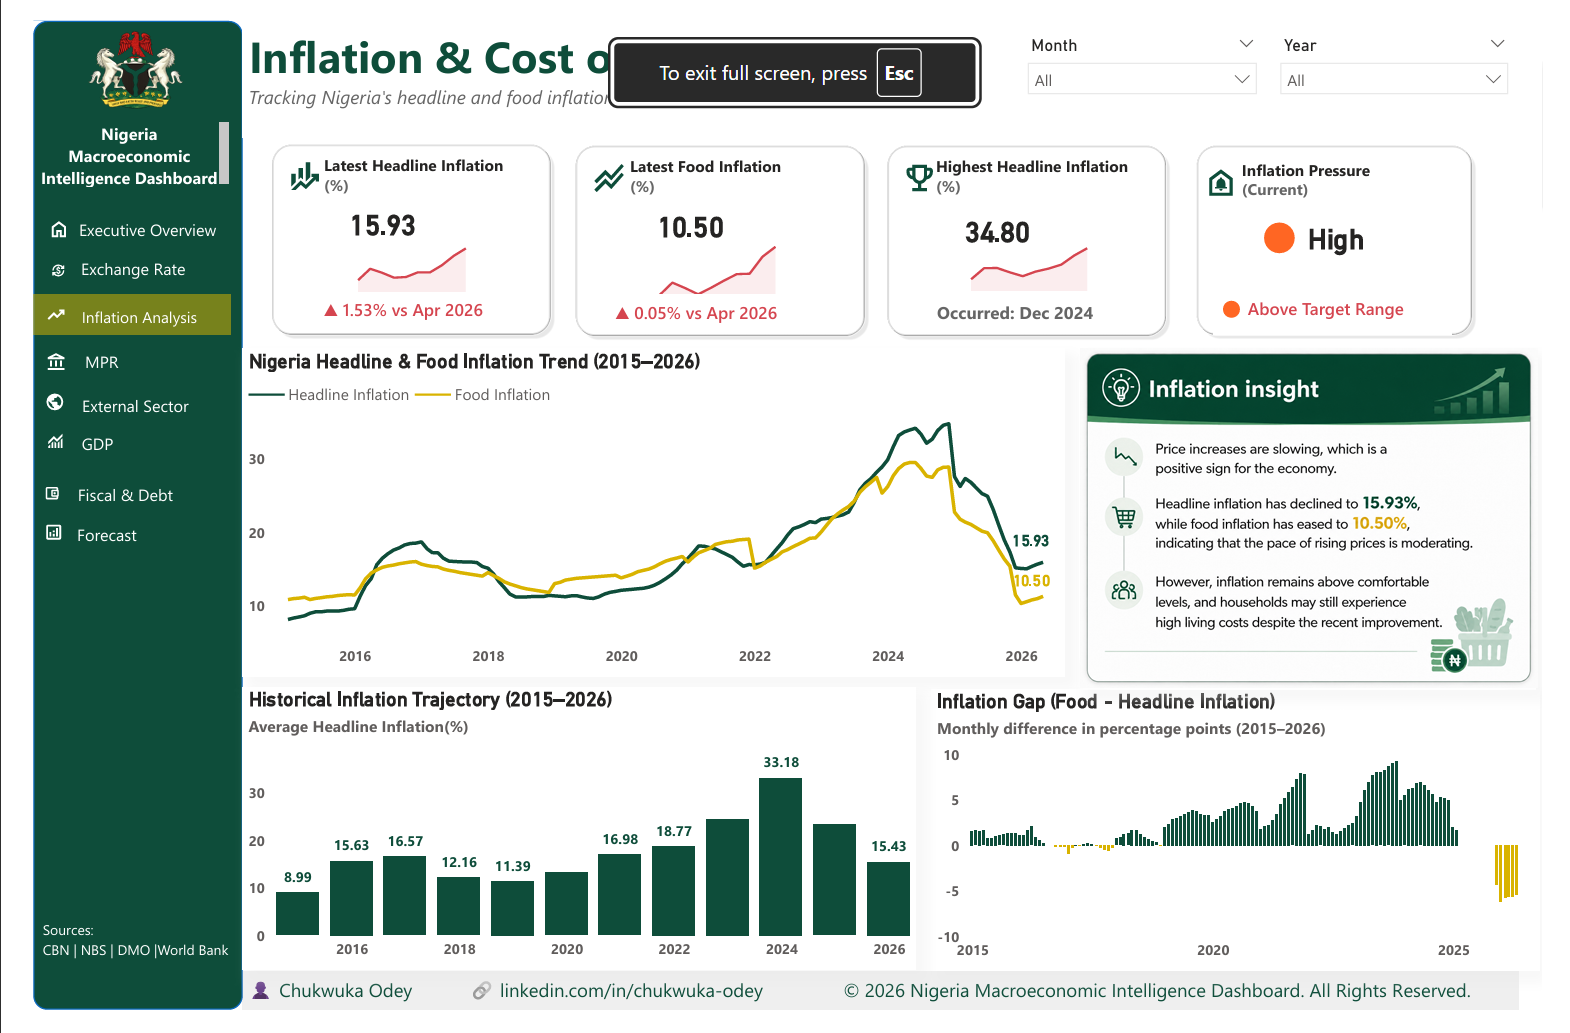

What the dashboard file says about the page in this screenshot:
{"tool":"powerbi","page":{"name":"Inflation","canvas":[1300,850],"ordinal":4},"visuals":[{"type":"shape","box":[2.9,0,180.5,850.3],"z":0},{"type":"shape","box":[203.1,101.2,250,173.9],"z":0,"group":"g9"},{"type":"shape","box":[731.8,102.1,249.5,173.9],"z":0,"group":"g11"},{"type":"shape","box":[464.3,102.4,259,173.9],"z":0,"group":"g12"},{"type":"shape","box":[997.5,102.5,246.9,173.2],"z":0,"group":"g10"},{"type":"textbox","title":"Executive Overview","box":[17.6,165.4,155,31.8],"z":0,"group":"g7"},{"type":"actionButton","box":[5.5,201.2,170,32.1],"z":0,"group":"g8"},{"type":"actionButton","box":[3.3,234.9,169.7,34.8],"z":0,"group":"g6"},{"type":"textbox","title":"Executive Overview","box":[13.5,272.8,158.6,36.2],"z":0,"group":"g5"},{"type":"shape","box":[902.3,282.9,393,291.7],"z":0,"group":"g14"},{"type":"textbox","title":"Executive Overview","box":[3.3,316.3,160,29.4],"z":0,"group":"g4"},{"type":"textbox","title":"Executive Overview","box":[3.1,348.6,163.9,34.4],"z":0,"group":"g3"},{"type":"textbox","title":"Executive Overview","box":[10.1,392.2,150.3,29.2],"z":0,"group":"g2"},{"type":"image","box":[12.1,430.6,16.7,17.2],"z":0,"group":"g1"},{"type":"image","title":"Coat of Arm","box":[0,0,182.1,107.5],"z":1000},{"type":"card","title":"Card 1","fields":{"Values":["Measures (2).Latest Food Inflation"]},"box":[495.4,155.3,145.9,41.7],"z":1000,"group":"g12"},{"type":"card","title":"Card 1","fields":{"Values":["Measures (2).Headline Inflation Status"]},"box":[1019.5,165,163.1,44.8],"z":1000,"group":"g10"},{"type":"image","box":[16.4,170.5,17.4,17.9],"z":1000,"group":"g7"},{"type":"image","box":[15.6,209.1,17,11.4],"z":1000,"group":"g8"},{"type":"card","title":"Card 2","fields":{"Values":["Measures (2).Inflation Change Display"]},"box":[226.8,237.5,188.3,26.4],"z":1000,"group":"g9"},{"type":"image","box":[14,244.1,16.9,17.2],"z":1000,"group":"g6"},{"type":"image","box":[903.4,281.5,393,291.7],"z":1000,"group":"g14"},{"type":"image","box":[13.4,284.9,16.9,17.1],"z":1000,"group":"g5"},{"type":"image","box":[13.3,319.4,16.8,17],"z":1000,"group":"g4"},{"type":"actionButton","box":[10.9,347.9,162.2,36],"z":1000,"group":"g3"},{"type":"image","box":[10.1,398.7,16.8,14.2],"z":1000,"group":"g2"},{"type":"textbox","title":"Executive Overview","box":[1,426.2,165.8,29.6],"z":1000,"group":"g1"},{"type":"textbox","box":[2.9,82.3,173.2,65],"z":2000},{"type":"textbox","box":[1036,114.9,181.9,52],"z":2000,"group":"g10"},{"type":"card","title":"Card 1","fields":{"Values":["Measures (2).Latest Headline Inflation"]},"box":[233.2,154.1,140.8,41.7],"z":2000,"group":"g9"},{"type":"card","title":"Card 1","fields":{"Values":["Measures (2).Highest Headline Inflation"]},"box":[762.1,159.8,140,41.9],"z":2000,"group":"g11"},{"type":"actionButton","box":[6,161.2,170,35.9],"z":2000,"group":"g7"},{"type":"textbox","title":"Exchange","box":[5.9,198.4,168.3,36],"z":2000,"group":"g8"},{"type":"textbox","title":"Executive Overview","box":[14,241,158.5,29.4],"z":2000,"group":"g6"},{"type":"actionButton","box":[4.8,274.6,169.2,34.9],"z":2000,"group":"g5"},{"type":"actionButton","box":[3.4,310.2,170.7,35.3],"z":2000,"group":"g4"},{"type":"image","box":[12.8,353,17.8,16.4],"z":2000,"group":"g3"},{"type":"actionButton","box":[5,385.6,172.5,36.2],"z":2000,"group":"g2"},{"type":"actionButton","box":[3.3,421.6,167.5,35.3],"z":2000,"group":"g1"},{"type":"textbox","box":[248.4,110.7,167.7,50.1],"z":3000,"group":"g9"},{"type":"textbox","box":[774,110.7,177.6,50.5],"z":3000,"group":"g11"},{"type":"textbox","box":[511.2,111.9,173.8,50.1],"z":3000,"group":"g12"},{"type":"group","id":"g1","title":"Nav Forecasting & Outlook","box":[1,421.6,170,36],"z":3000},{"type":"image","box":[744.4,119.7,39.5,30.6],"z":4000,"group":"g11"},{"type":"image","box":[477.4,120,41,30.6],"z":4000,"group":"g12"},{"type":"image","box":[1003.3,124.2,39,30.3],"z":4000,"group":"g10"},{"type":"lineChart","fields":{"Category":["Fiscal.Year"],"Y":["Measures (2).Latest Headline Inflation"]},"box":[216.3,176.3,184.2,62.6],"z":4000,"group":"g9"},{"type":"group","id":"g2","title":"Nav Fiscal & Debt Analysis","box":[5,385.6,172.5,36.2],"z":4000},{"type":"lineChart","title":"Nigeria Headline & Food Inflation Trend (2015–2026)","fields":{"Category":["Food Inflation.Date"],"Y":["Measures (2).Latest Headline Inflation"],"Y2":["Measures (2).Latest Food Inflation"]},"box":[183.3,281.5,707.4,281.5],"z":4005,"group":"g13"},{"type":"card","title":"Card 1","fields":{"Values":["Measures (2).Latest Headline Inflation"]},"box":[835.6,433.4,50.2,27.9],"z":4505,"group":"g13"},{"type":"image","box":[215.8,118.8,39.6,30.6],"z":5000,"group":"g9"},{"type":"group","id":"g3","title":"Nav Economic Growth","box":[3.1,347.9,170,36],"z":5000},{"type":"card","title":"Card 1","fields":{"Values":["Measures (2).Latest Food Inflation"]},"box":[835.6,466.8,51.8,23.7],"z":5005,"group":"g13"},{"type":"group","id":"g4","title":"Nav External Sector","box":[3.3,310.2,170,36],"z":6000},{"type":"group","id":"g5","title":"Nav Monetary Policy (MPR)","box":[4.8,272.8,169.2,36.7],"z":7000},{"type":"group","id":"g6","title":"Nav Inflation Analysis","box":[3.3,234.9,169.7,35.5],"z":8000},{"type":"group","id":"g7","title":"Nav - Executive Overview","box":[6,161.2,170,36],"z":9000},{"type":"group","id":"g8","title":"Nav - Exchange","box":[5.5,198.4,170,36],"z":10000},{"type":"textbox","box":[183.3,0,649.6,101.1],"z":11000},{"type":"group","id":"g9","title":"Latest Exchange KPI","box":[203.1,101.2,249.3,174.6],"z":12000},{"type":"group","id":"g10","title":"Annual KPI","box":[997.5,102.5,246.9,173.2],"z":13000},{"type":"group","id":"g11","title":"monthly KPI","box":[731.8,102.1,249.5,173.9],"z":14000},{"type":"group","id":"g12","title":"Highest Exchange","box":[464.3,102.4,259,173.9],"z":15000},{"type":"textbox","box":[183.3,816.8,1097.2,33.2],"z":16000},{"type":"textbox","box":[5.8,766.6,171.8,66.4],"z":17000},{"type":"slicer","fields":{"Values":["Verified Inflation.Year"]},"box":[1064.5,8.1,216.1,74.2],"z":18000},{"type":"slicer","fields":{"Values":["Verified Inflation.Month"]},"box":[848.4,8.1,216.1,71],"z":19000},{"type":"lineChart","fields":{"Category":["Fiscal.Year"],"Y":["Measures (2).Latest Food Inflation"]},"box":[470.6,180.5,196.3,62.1],"z":20000},{"type":"lineChart","fields":{"Category":["Fiscal.Year"],"Y":["Measures (2).Highest Headline Inflation"]},"box":[739.1,176.1,196.3,62.1],"z":21000},{"type":"textbox","box":[775.2,235.3,192,30.3],"z":22000},{"type":"textbox","box":[498,235.3,212.2,30.3],"z":23000},{"type":"textbox","box":[1017.8,232.4,205,37.5],"z":24000},{"type":"group","id":"g13","title":"Group 1","box":[183.3,281.5,707.4,281.5],"z":25000},{"type":"columnChart","title":"Inflation Gap (Food - Headline Inflation)","fields":{"Category":["Food Inflation.Date"],"Y":["Measures (2).Positive Inflation Gap","Measures (2).Negative Inflation Gap"]},"box":[775.2,574.6,522.6,242.5],"z":26000},{"type":"clusteredColumnChart","title":"Historical Inflation Trajectory (2015–2026)","fields":{"Category":["Verified Inflation.Year"],"Y":["Measures (2).Average Headline Inflation"]},"box":[183.3,573.1,578.9,242.5],"z":27000},{"type":"group","id":"g14","title":"Group 4","box":[902.3,281.5,392.7,293.1],"z":28000}]}

Visuals, with their boxes on the page's 1300x850 design canvas (x1, y1, x2, y2). These are canvas units, not pixel positions in the 1570x1033 screenshot, which may show the page scaled, cropped or inside an application window:
shape: select_region(3, 0, 183, 850)
shape: select_region(203, 101, 453, 275)
shape: select_region(732, 102, 981, 276)
shape: select_region(464, 102, 723, 276)
shape: select_region(998, 102, 1244, 276)
"Executive Overview" textbox: select_region(18, 165, 173, 197)
actionButton: select_region(6, 201, 176, 233)
actionButton: select_region(3, 235, 173, 270)
"Executive Overview" textbox: select_region(14, 273, 172, 309)
shape: select_region(902, 283, 1295, 575)
"Executive Overview" textbox: select_region(3, 316, 163, 346)
"Executive Overview" textbox: select_region(3, 349, 167, 383)
"Executive Overview" textbox: select_region(10, 392, 160, 421)
image: select_region(12, 431, 29, 448)
"Coat of Arm" image: select_region(0, 0, 182, 108)
"Card 1" card: select_region(495, 155, 641, 197)
"Card 1" card: select_region(1020, 165, 1183, 210)
image: select_region(16, 170, 34, 188)
image: select_region(16, 209, 33, 220)
"Card 2" card: select_region(227, 238, 415, 264)
image: select_region(14, 244, 31, 261)
image: select_region(903, 282, 1296, 573)
image: select_region(13, 285, 30, 302)
image: select_region(13, 319, 30, 336)
actionButton: select_region(11, 348, 173, 384)
image: select_region(10, 399, 27, 413)
"Executive Overview" textbox: select_region(1, 426, 167, 456)
textbox: select_region(3, 82, 176, 147)
textbox: select_region(1036, 115, 1218, 167)
"Card 1" card: select_region(233, 154, 374, 196)
"Card 1" card: select_region(762, 160, 902, 202)
actionButton: select_region(6, 161, 176, 197)
"Exchange" textbox: select_region(6, 198, 174, 234)
"Executive Overview" textbox: select_region(14, 241, 172, 270)
actionButton: select_region(5, 275, 174, 310)
actionButton: select_region(3, 310, 174, 346)
image: select_region(13, 353, 31, 369)
actionButton: select_region(5, 386, 178, 422)
actionButton: select_region(3, 422, 171, 457)
textbox: select_region(248, 111, 416, 161)
textbox: select_region(774, 111, 952, 161)
textbox: select_region(511, 112, 685, 162)
"Nav Forecasting & Outlook" group: select_region(1, 422, 171, 458)
image: select_region(744, 120, 784, 150)
image: select_region(477, 120, 518, 151)
image: select_region(1003, 124, 1042, 154)
lineChart - Fiscal.Year x Measures (2).Latest Headline Inflation: select_region(216, 176, 400, 239)
"Nav Fiscal & Debt Analysis" group: select_region(5, 386, 178, 422)
"Nigeria Headline & Food Inflation Trend (2015–2026)" lineChart: select_region(183, 282, 891, 563)
"Card 1" card: select_region(836, 433, 886, 461)
image: select_region(216, 119, 255, 149)
"Nav Economic Growth" group: select_region(3, 348, 173, 384)
"Card 1" card: select_region(836, 467, 887, 490)
"Nav External Sector" group: select_region(3, 310, 173, 346)
"Nav Monetary Policy (MPR)" group: select_region(5, 273, 174, 310)
"Nav Inflation Analysis" group: select_region(3, 235, 173, 270)
"Nav - Executive Overview" group: select_region(6, 161, 176, 197)
"Nav - Exchange" group: select_region(6, 198, 176, 234)
textbox: select_region(183, 0, 833, 101)
"Latest Exchange KPI" group: select_region(203, 101, 452, 276)
"Annual KPI" group: select_region(998, 102, 1244, 276)
"monthly KPI" group: select_region(732, 102, 981, 276)
"Highest Exchange" group: select_region(464, 102, 723, 276)
textbox: select_region(183, 817, 1280, 850)
textbox: select_region(6, 767, 178, 833)
slicer - Verified Inflation.Year: select_region(1064, 8, 1281, 82)
slicer - Verified Inflation.Month: select_region(848, 8, 1064, 79)
lineChart - Fiscal.Year x Measures (2).Latest Food Inflation: select_region(471, 180, 667, 243)
lineChart - Fiscal.Year x Measures (2).Highest Headline Inflation: select_region(739, 176, 935, 238)
textbox: select_region(775, 235, 967, 266)
textbox: select_region(498, 235, 710, 266)
textbox: select_region(1018, 232, 1223, 270)
"Group 1" group: select_region(183, 282, 891, 563)
"Inflation Gap (Food - Headline Inflation)" columnChart: select_region(775, 575, 1298, 817)
"Historical Inflation Trajectory (2015–2026)" clusteredColumnChart: select_region(183, 573, 762, 816)
"Group 4" group: select_region(902, 282, 1295, 575)
